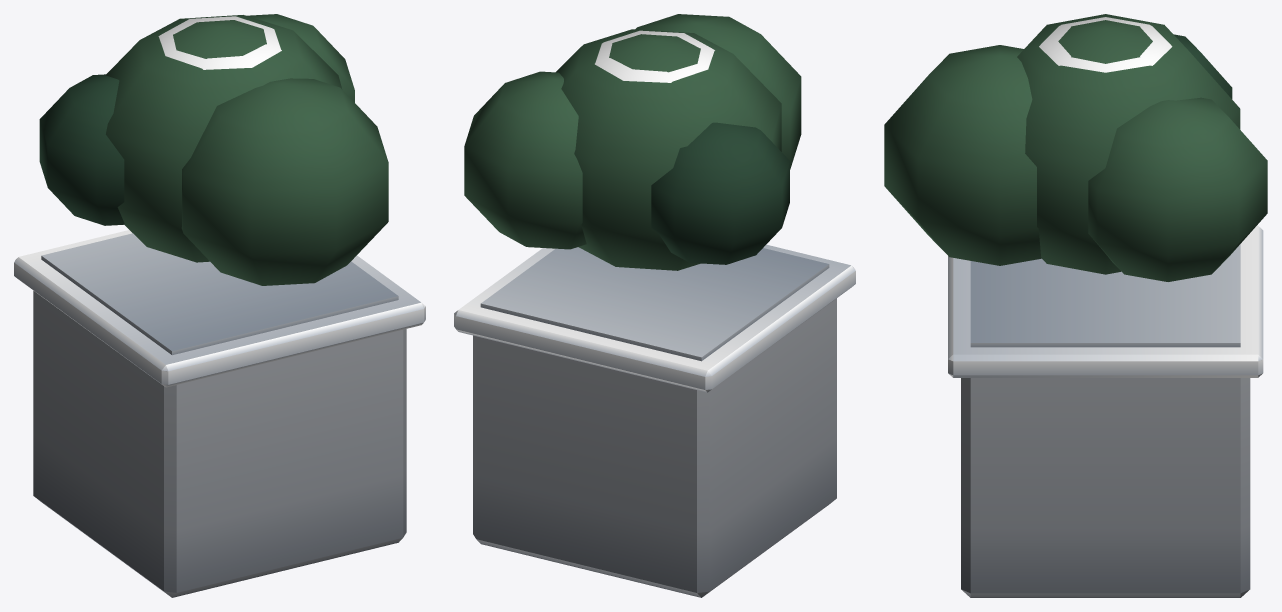
File: ck_potted_shrub.fbx
3 views of the same model, side by side, from view 1: azimuth 30°, elevation 25°; view 2: azimuth 150°, elevation 25°; view 3: azimuth 270°, elevation 25° (orthographic). The views are drawn at different scales.
Visible parts, largest first — view 1: ck_potted_shrub; view 2: ck_potted_shrub; view 3: ck_potted_shrub.
Part boxes in pixels (left/top/right/bottom): ck_potted_shrub: left=14, top=14, right=425, bottom=597; ck_potted_shrub: left=454, top=14, right=855, bottom=597; ck_potted_shrub: left=884, top=14, right=1267, bottom=597.
Bounding box in the file's own units: 181 × 280 × 190.
